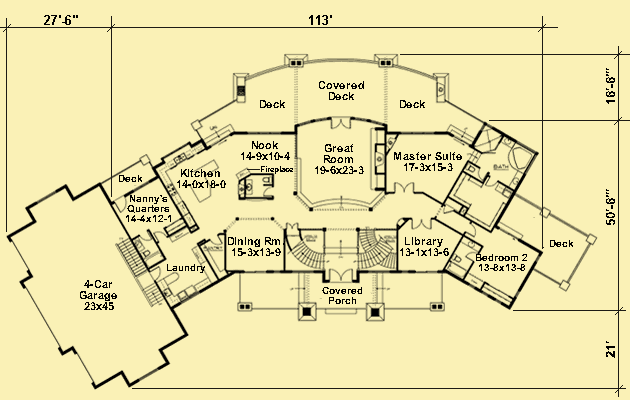door: (326, 113, 352, 132), (327, 267, 354, 284), (410, 216, 434, 231), (392, 181, 416, 195), (113, 195, 129, 213), (463, 222, 476, 239), (485, 176, 500, 190), (464, 251, 478, 263), (439, 205, 454, 216), (138, 231, 153, 242)
large sink: (450, 251, 463, 265), (260, 174, 272, 186)
small sink: (508, 171, 523, 190), (461, 238, 479, 252), (246, 178, 253, 197), (502, 137, 514, 148)
stairs: (114, 238, 162, 306), (355, 228, 396, 273), (285, 229, 324, 270), (205, 124, 237, 149)
windows: (34, 190, 58, 203), (138, 367, 160, 381)
